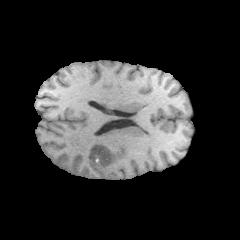glioma: (54, 136, 127, 177)
